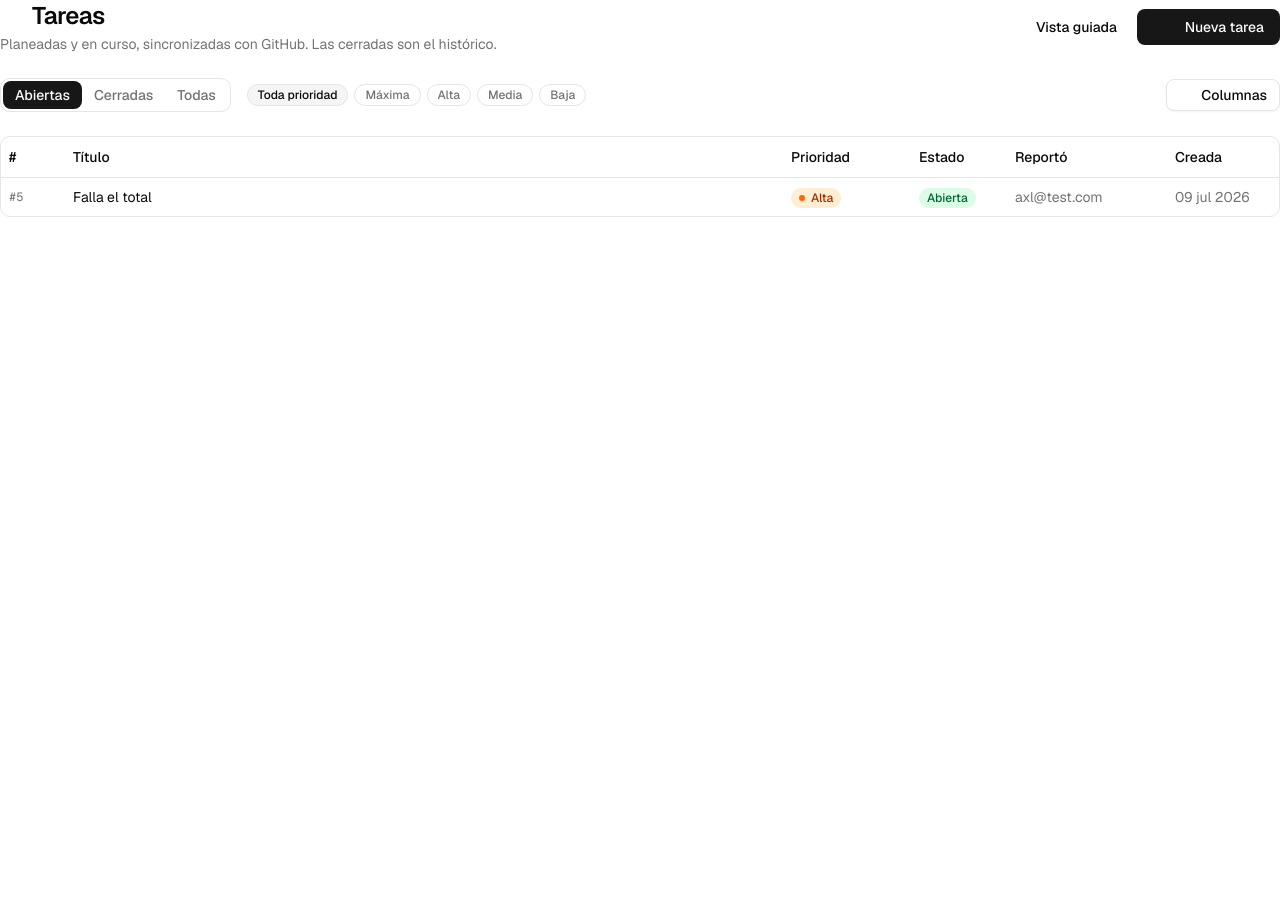
Test: TasksPage › abre el modal de nueva tarea
Click the button "Nueva tarea" at (1208, 27), box [1137,9,1279,45]
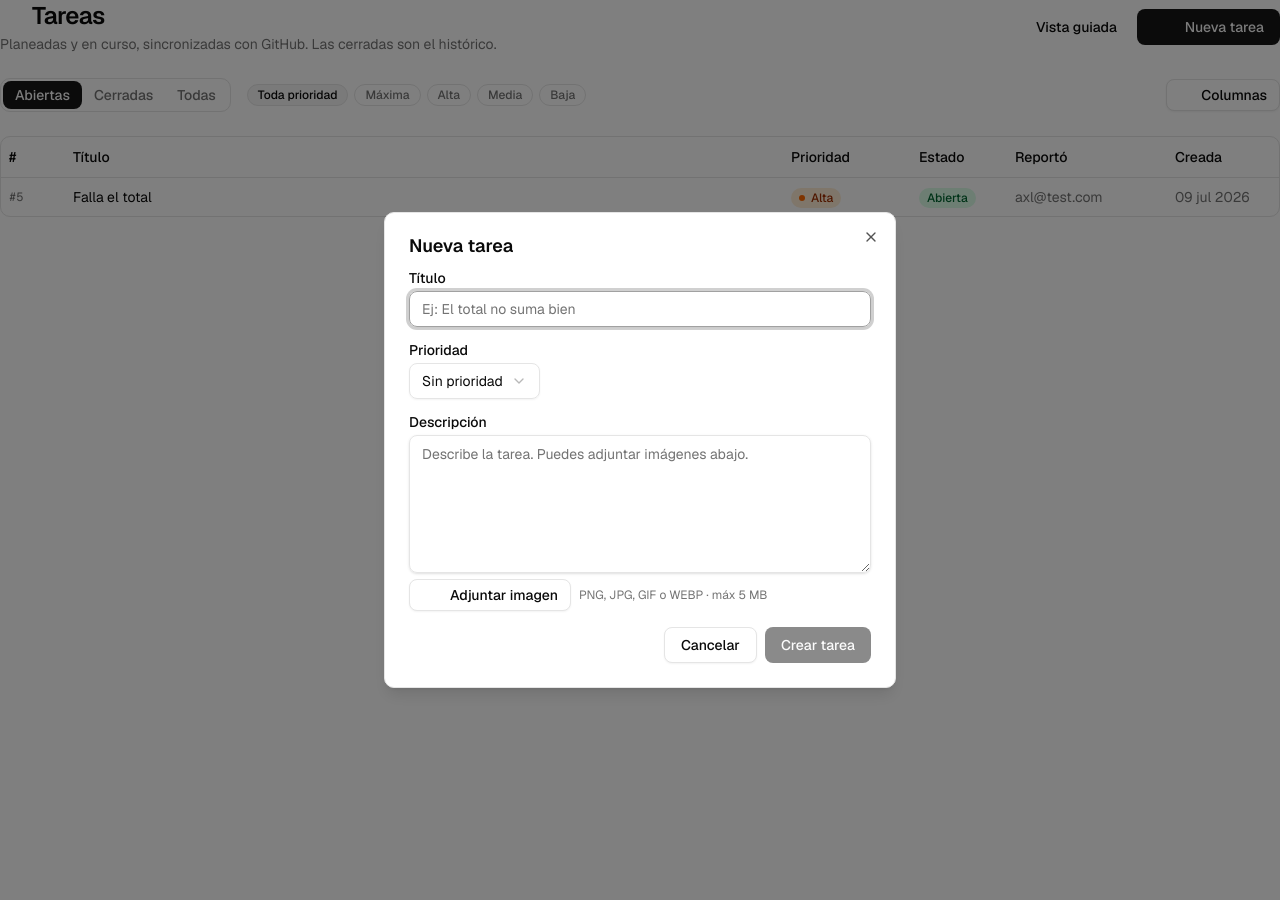
Now the heading "Nueva tarea" is shown, box [409,234,513,257]
Now the field with placeholder "Ej: El total no suma bien" is shown, box [409,291,871,327]
